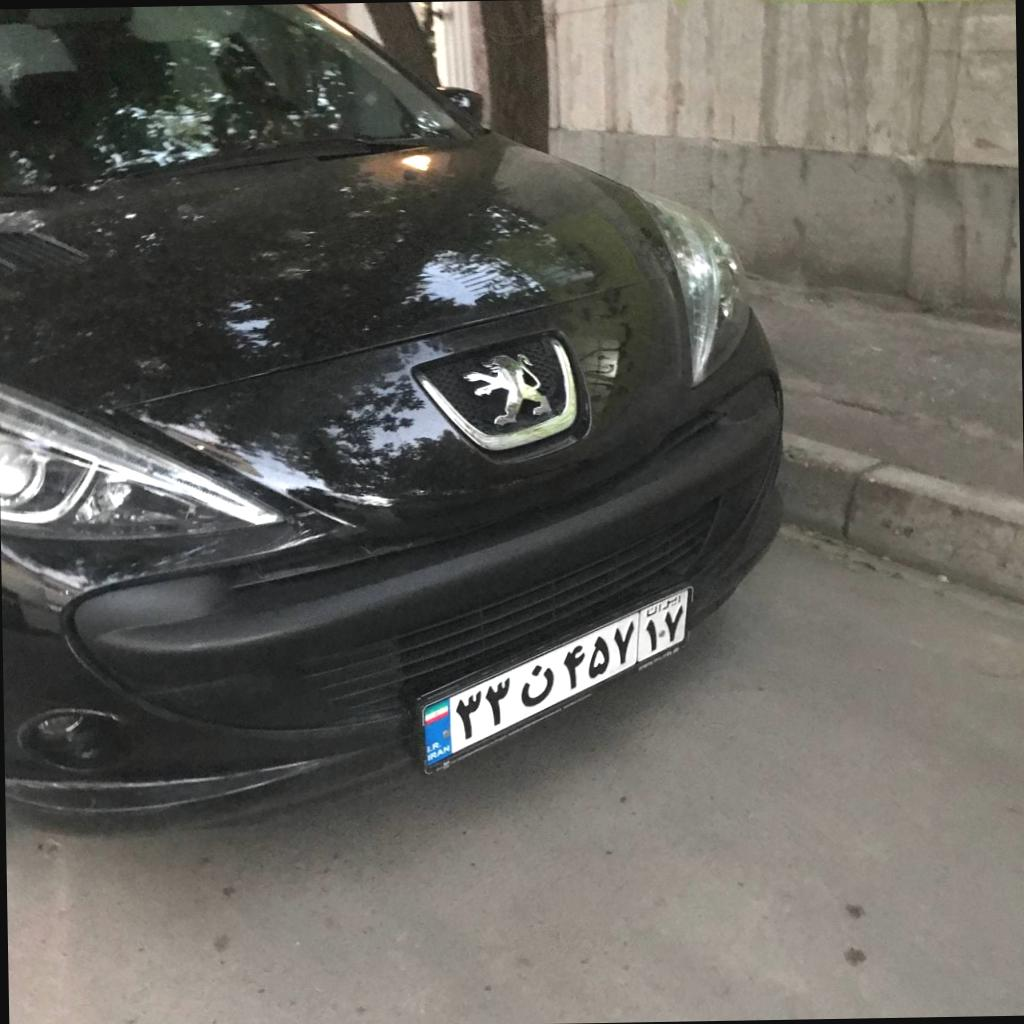Plates: (424, 589, 687, 767)
